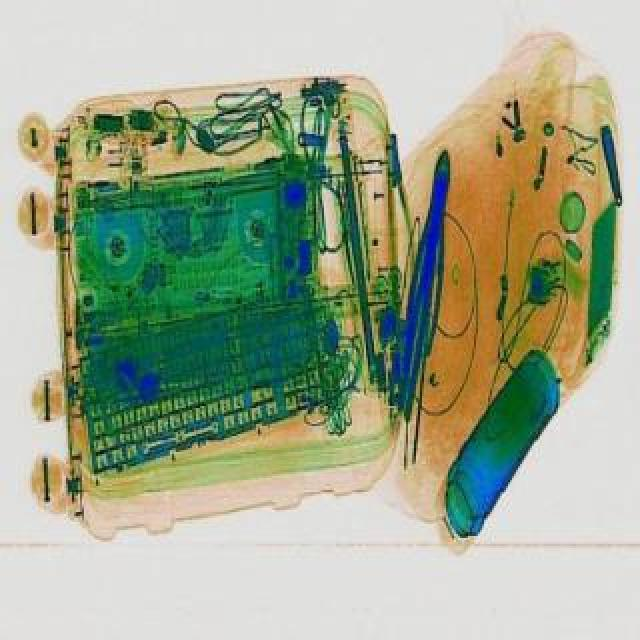wrench: (396, 154, 462, 416)
